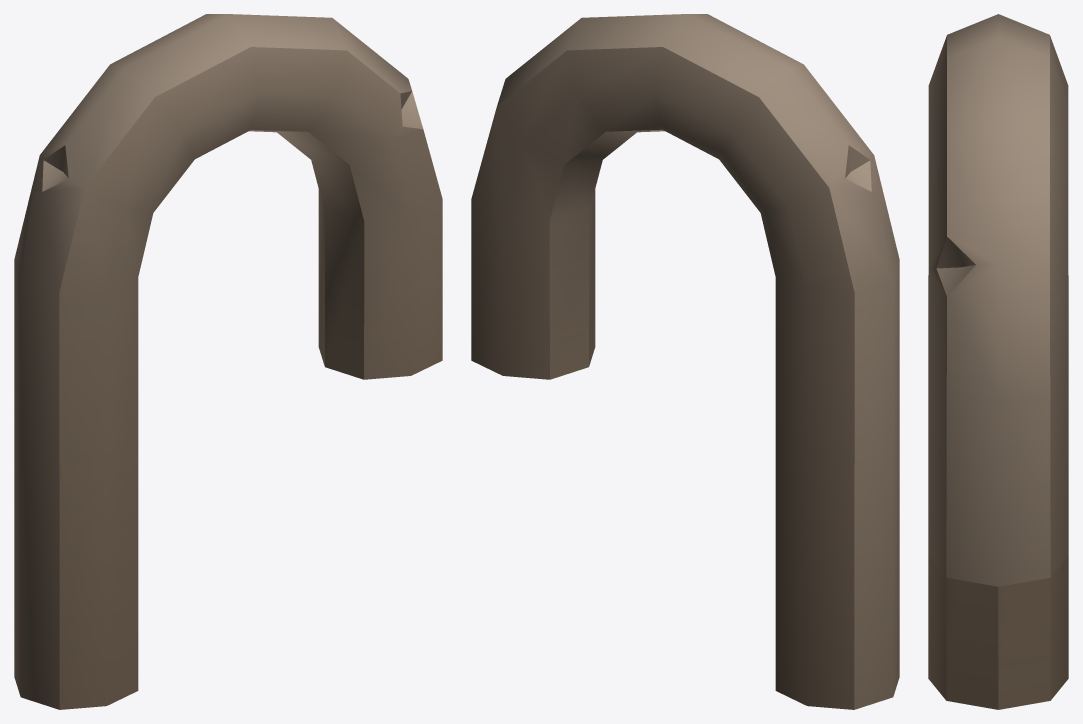
File: lock_A_part.obj
The picture shows the model from 3 angles, left to right: view 1: azimuth 30°, elevation 25°; view 2: azimuth 150°, elevation 25°; view 3: azimuth 270°, elevation 25°; orthographic projection. The views are drawn at different scales.
Parts seen in each view (by area): view 1: lock_A_part; view 2: lock_A_part; view 3: lock_A_part.
Part boxes in pixels (box(x1,y1,x2,y2)): lock_A_part: box(14, 14, 442, 709); lock_A_part: box(471, 14, 899, 709); lock_A_part: box(928, 14, 1068, 709).
Bounding box in the file's own units: 0.4265 × 0.6261 × 0.1085.
1 material, 1 textured.
